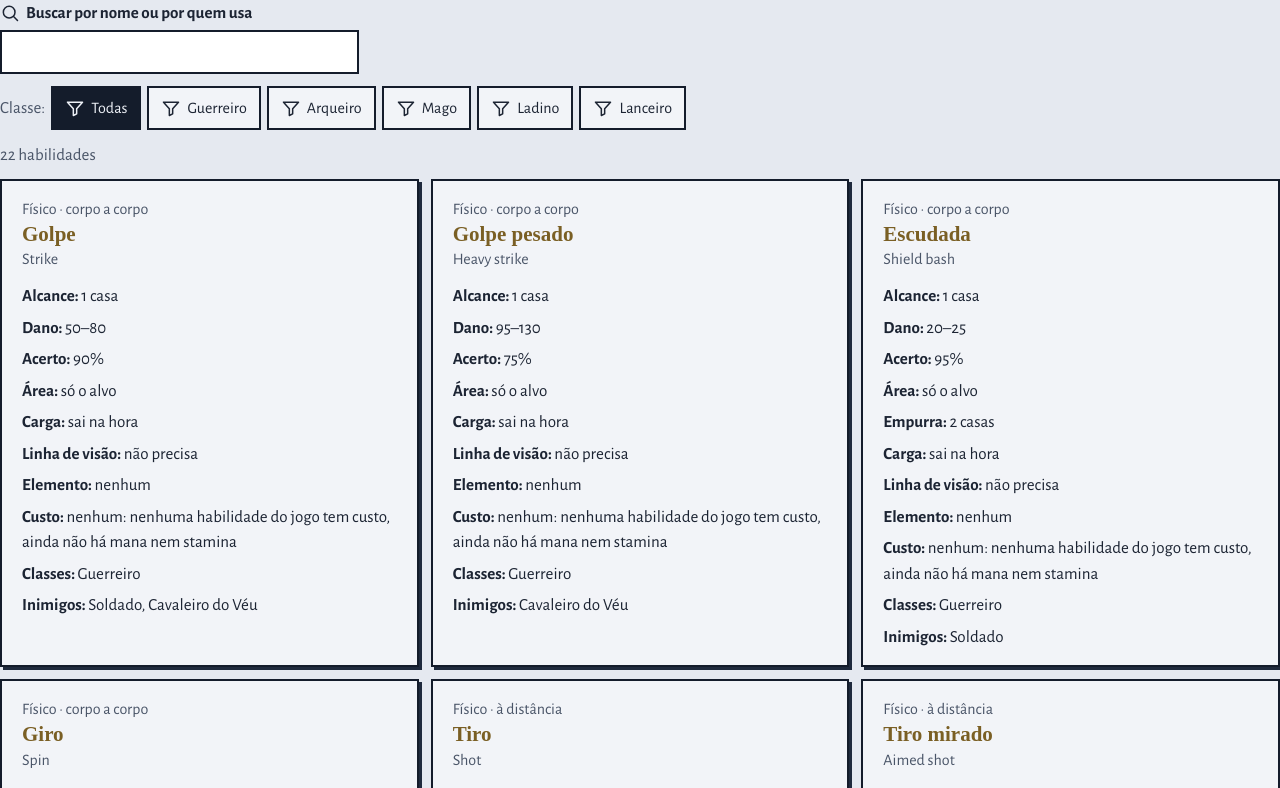
habilidades.json and itens.json › filters by class chip and by search, and says so when nothing matches
This screenshot has width=1280, height=788.
Click the button "Mago" at (426, 108), box top-left (382, 86), bottom-right (471, 130)
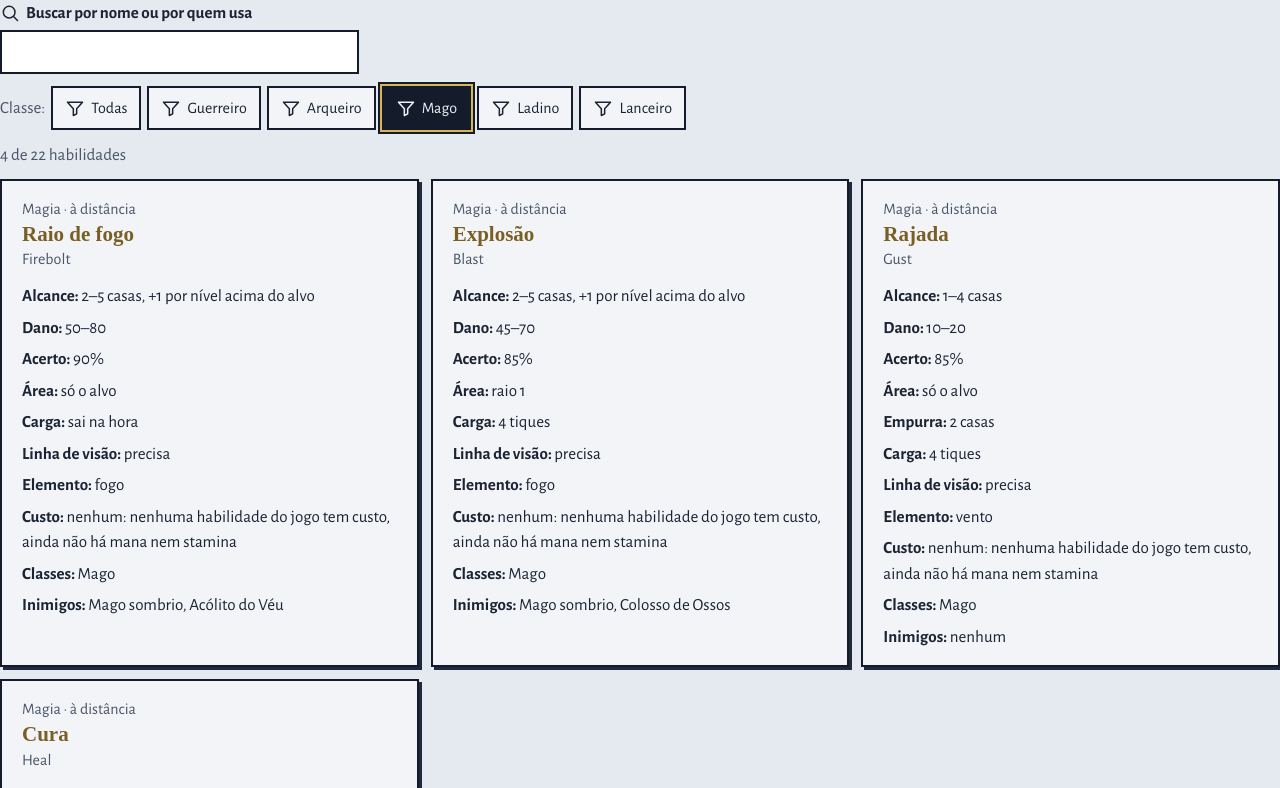
Expected: the button "Mago" is pressed, top-left (382, 86), bottom-right (471, 130)
Click the button "Todas" at (96, 108), box top-left (51, 86), bottom-right (142, 130)
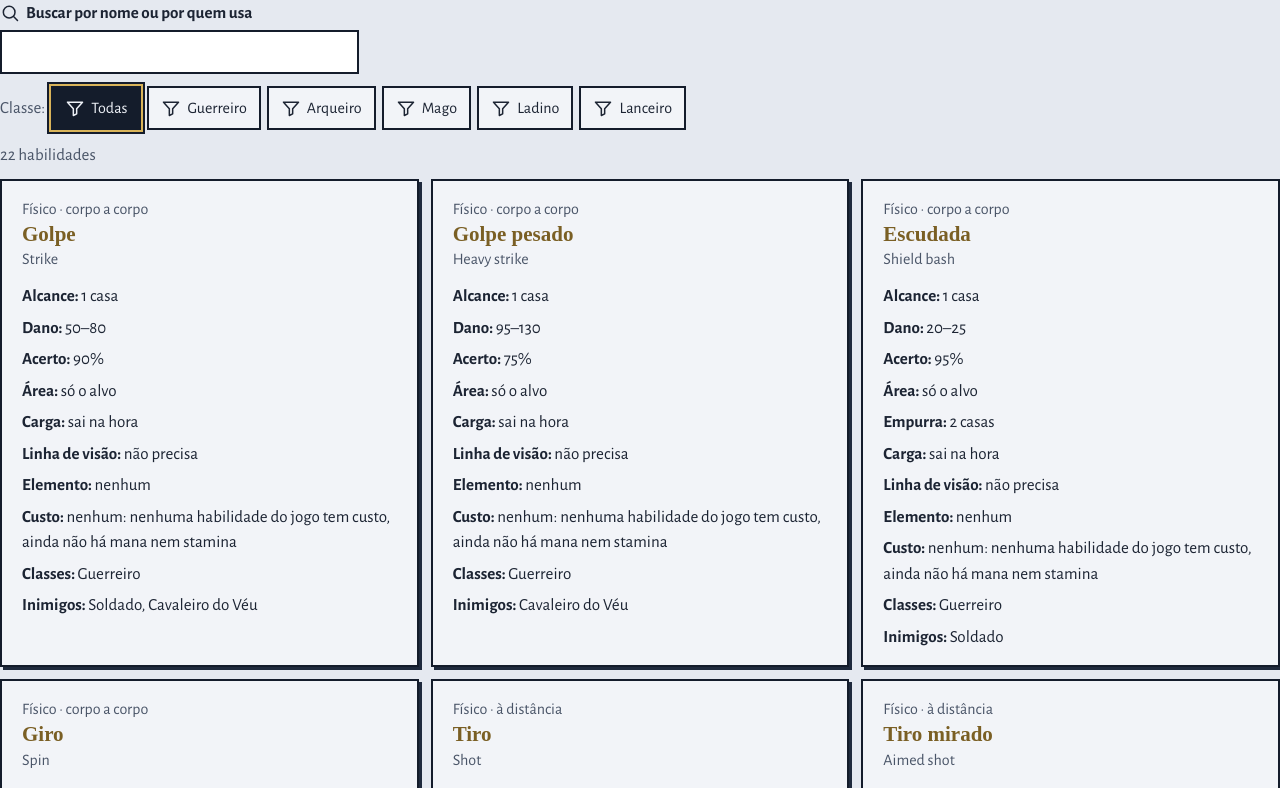
Type "explosao" into the search field labelled "Buscar por nome ou por quem usa" at (180, 52), box top-left (0, 30), bottom-right (359, 74)
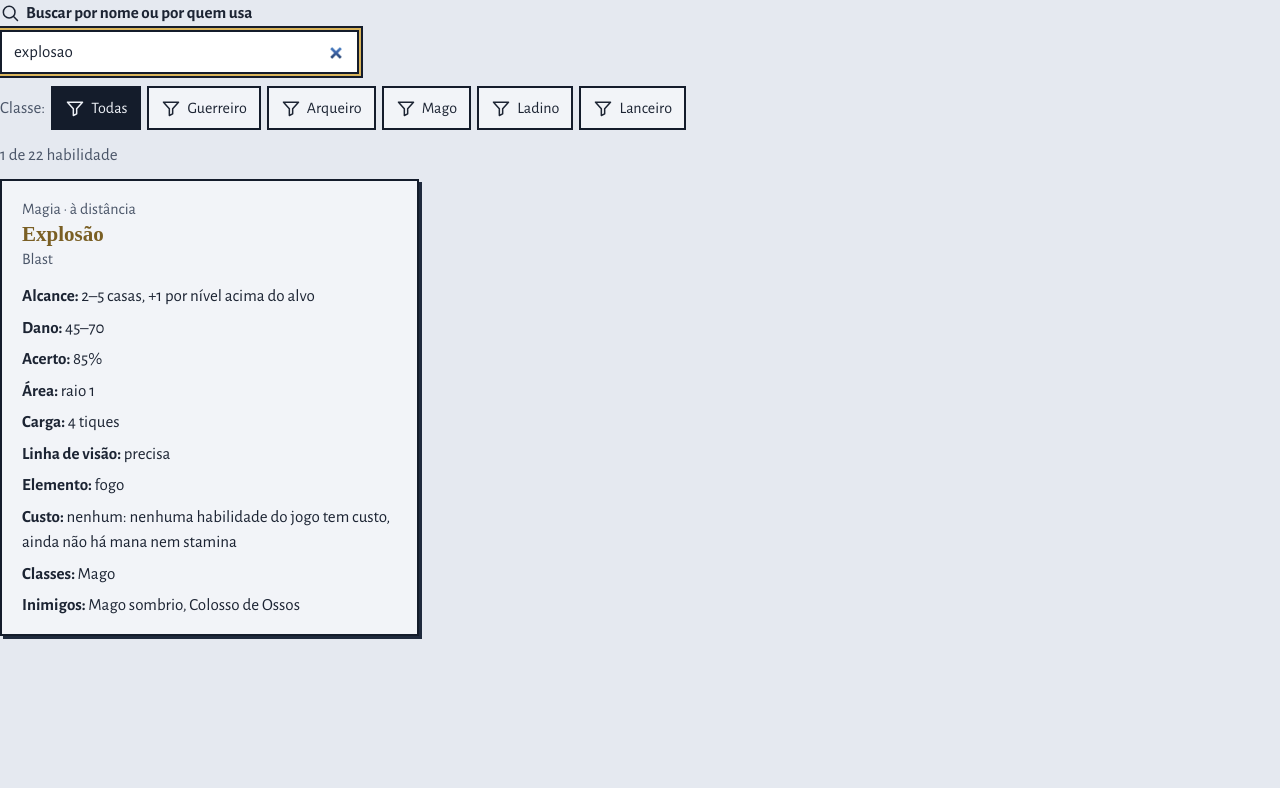
Type "zzz" into the search field labelled "Buscar por nome ou por quem usa" at (180, 52), box top-left (0, 30), bottom-right (359, 74)
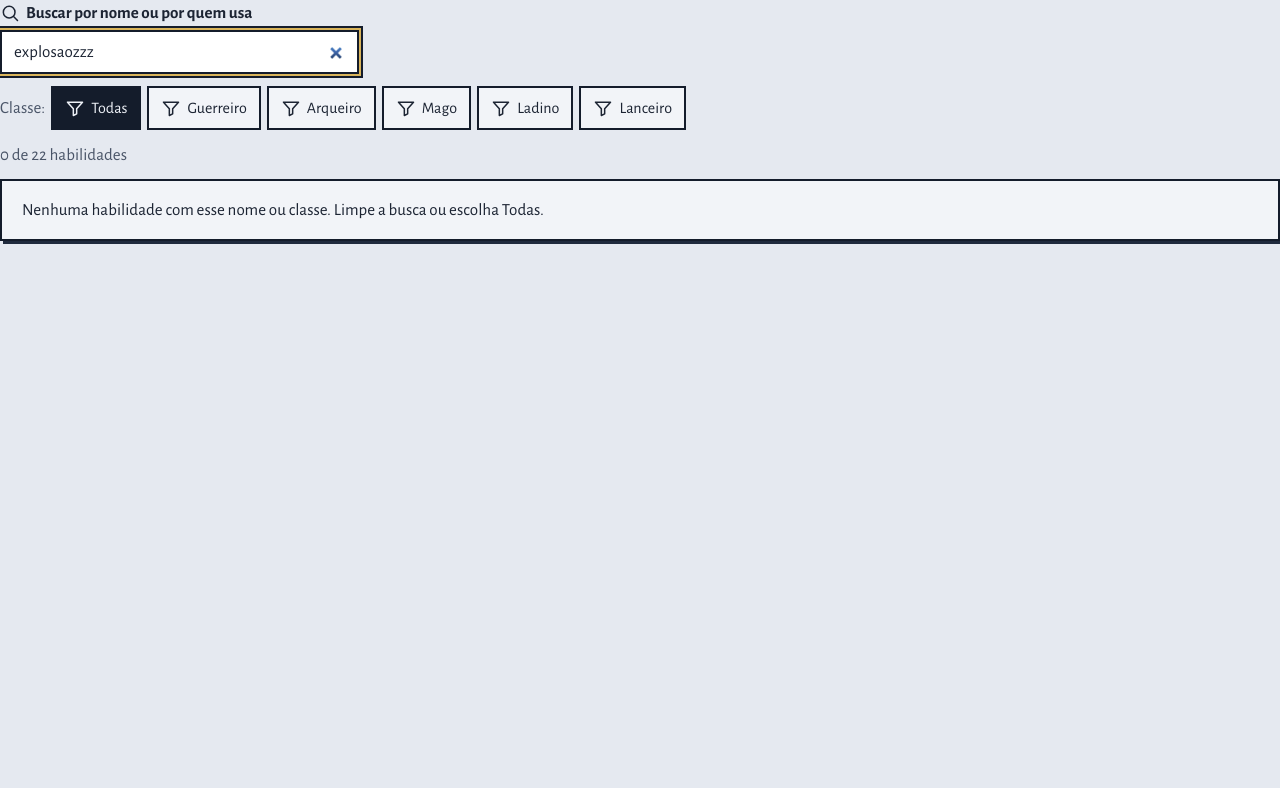
Expected: the text "Nenhuma habilidade com esse nome" is shown, top-left (22, 201), bottom-right (544, 218)
